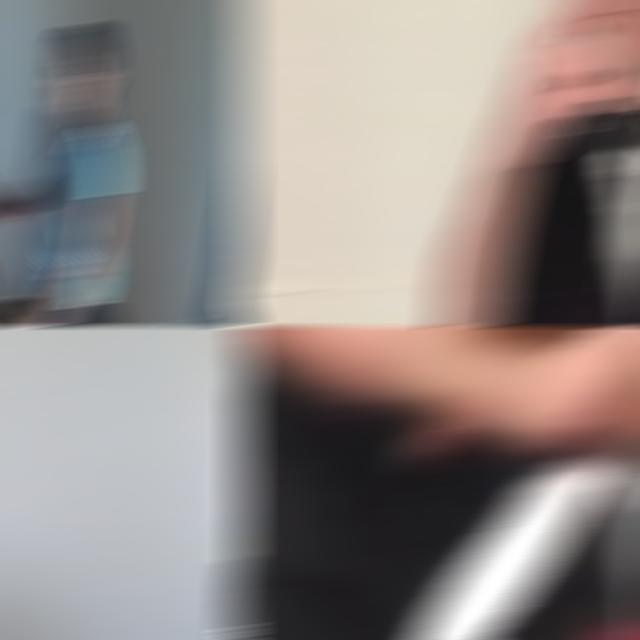Knife: (392, 458, 618, 639)
Knife_Handle: (391, 327, 640, 639), (499, 1, 640, 325)
